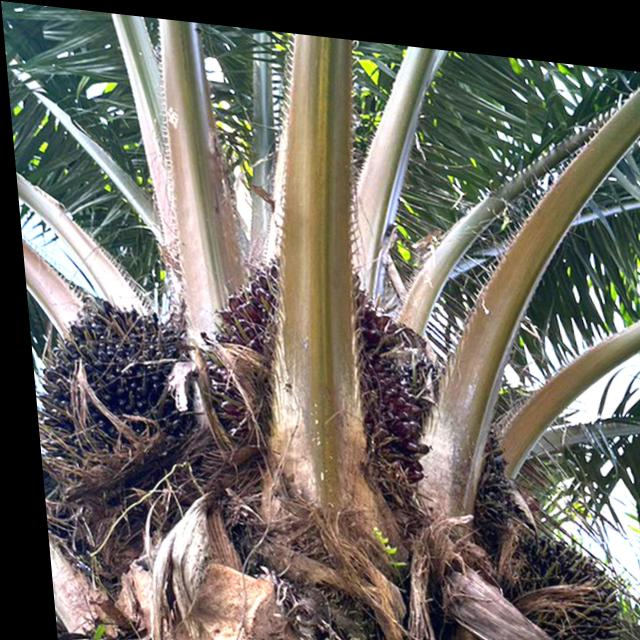ripe: (205, 232, 425, 485), (29, 284, 192, 467), (490, 508, 630, 640)
